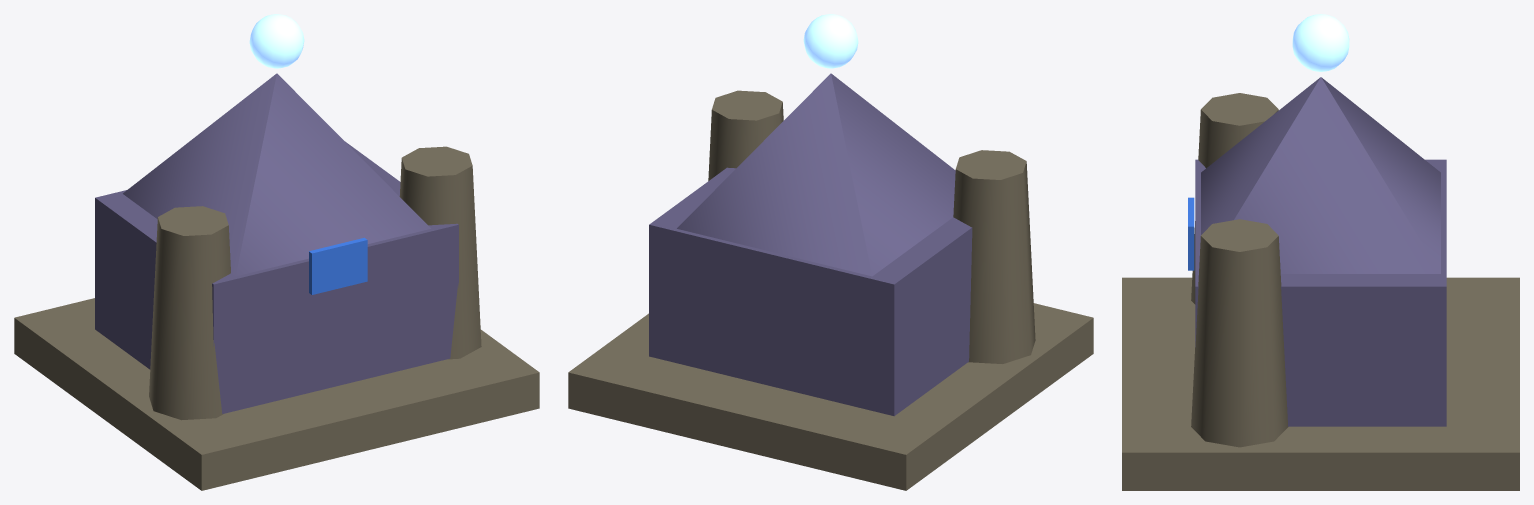
Rendered from arcane_sanctum.glb.
The picture shows the model from 3 angles, left to right: view 1: azimuth 30°, elevation 25°; view 2: azimuth 150°, elevation 25°; view 3: azimuth 270°, elevation 25°; orthographic projection. The views are drawn at different scales.
Parts seen in each view (by area): view 1: sanctum-main-hall, sanctum-stone-base, sanctum-main-spire, sanctum-left-tower, sanctum-right-tower, sanctum-team-banner, sanctum-arcane-orb; view 2: sanctum-main-hall, sanctum-stone-base, sanctum-main-spire, sanctum-left-tower, sanctum-right-tower, sanctum-arcane-orb; view 3: sanctum-stone-base, sanctum-main-spire, sanctum-main-hall, sanctum-right-tower, sanctum-left-tower, sanctum-arcane-orb, sanctum-team-banner.
Boxes of the visible parts, box(x1,y1,x2,y2) form: sanctum-main-hall: box(95, 141, 458, 413); sanctum-stone-base: box(14, 298, 539, 490); sanctum-main-spire: box(123, 73, 430, 276); sanctum-left-tower: box(149, 206, 230, 420); sanctum-right-tower: box(399, 146, 481, 359); sanctum-team-banner: box(309, 237, 367, 294); sanctum-arcane-orb: box(249, 14, 304, 68); sanctum-main-hall: box(649, 167, 972, 416); sanctum-stone-base: box(568, 303, 1093, 490); sanctum-main-spire: box(677, 73, 955, 276); sanctum-left-tower: box(953, 150, 1035, 363); sanctum-right-tower: box(708, 90, 783, 180); sanctum-arcane-orb: box(803, 14, 858, 68); sanctum-stone-base: box(1122, 277, 1519, 490); sanctum-main-spire: box(1201, 77, 1440, 273); sanctum-main-hall: box(1195, 159, 1446, 426); sanctum-right-tower: box(1191, 219, 1288, 447); sanctum-left-tower: box(1191, 93, 1278, 304); sanctum-arcane-orb: box(1292, 14, 1349, 71); sanctum-team-banner: box(1188, 197, 1194, 270).
Size of the model in its own units: 2.55 by 2.63 by 2.45.
